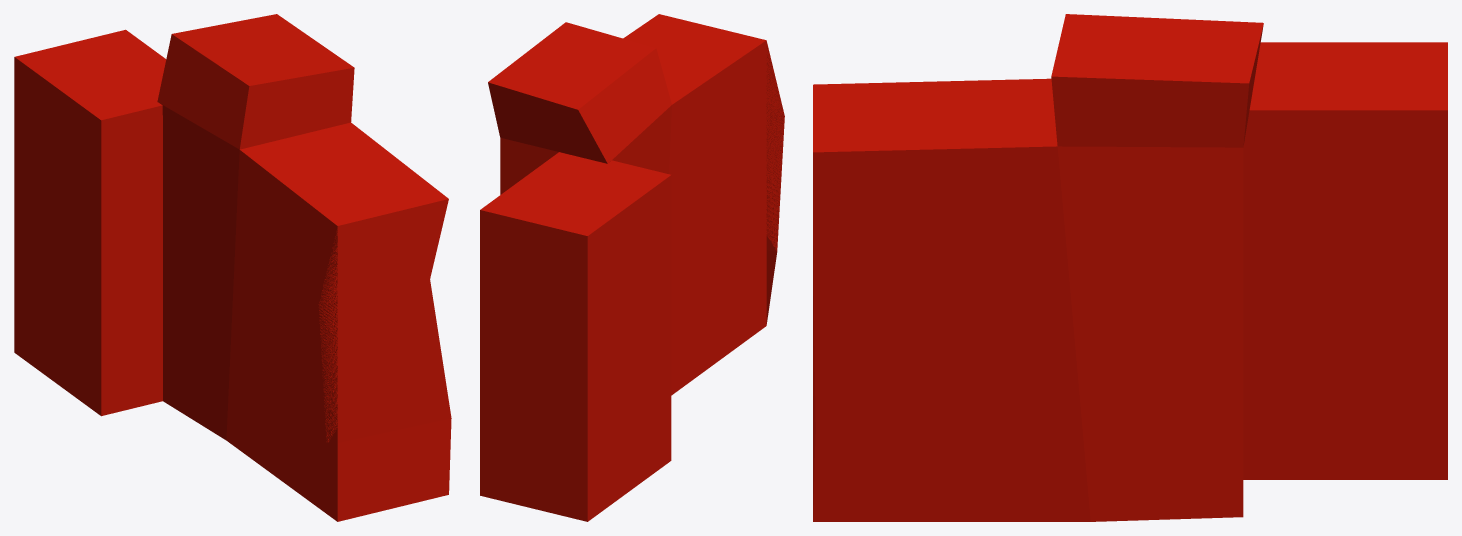
Rendered from UCX_cardboard_boxes_small_2.fbx.
3 views of the same model, side by side, from view 1: azimuth 30°, elevation 25°; view 2: azimuth 150°, elevation 25°; view 3: azimuth 270°, elevation 25° (orthographic). The views are drawn at different scales.
Visible parts, largest first — view 1: UCX_cardboard_boxes_small_2; view 2: UCX_cardboard_boxes_small_2; view 3: UCX_cardboard_boxes_small_2.
Boxes of the visible parts, <box> form: UCX_cardboard_boxes_small_2: <box>14,14,451,521</box>; UCX_cardboard_boxes_small_2: <box>480,14,784,521</box>; UCX_cardboard_boxes_small_2: <box>813,14,1447,521</box>.
Bounding box in the file's own units: 0.5629 × 1.05 × 1.35.
